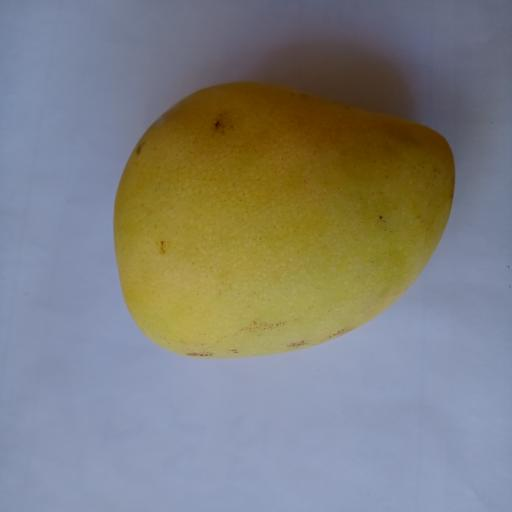mango-ripe: (101, 66, 467, 374)
